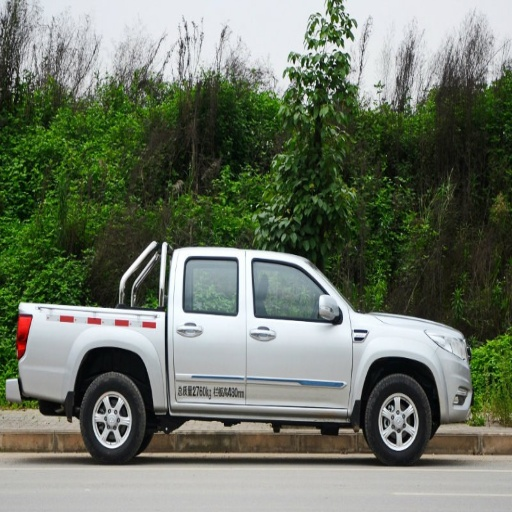back_right_door: (174, 255, 246, 402)
front_right_door: (247, 256, 352, 408)
trunk: (20, 308, 168, 407)
